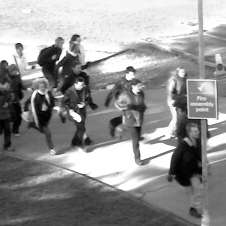person: (169, 123, 210, 218), (106, 65, 145, 141), (61, 77, 95, 153), (118, 79, 148, 165), (24, 79, 56, 154), (165, 66, 189, 143), (38, 37, 64, 84), (9, 40, 35, 87), (7, 64, 23, 136), (1, 76, 14, 152), (64, 60, 90, 96), (55, 43, 82, 75), (67, 32, 85, 63), (1, 58, 10, 85)
